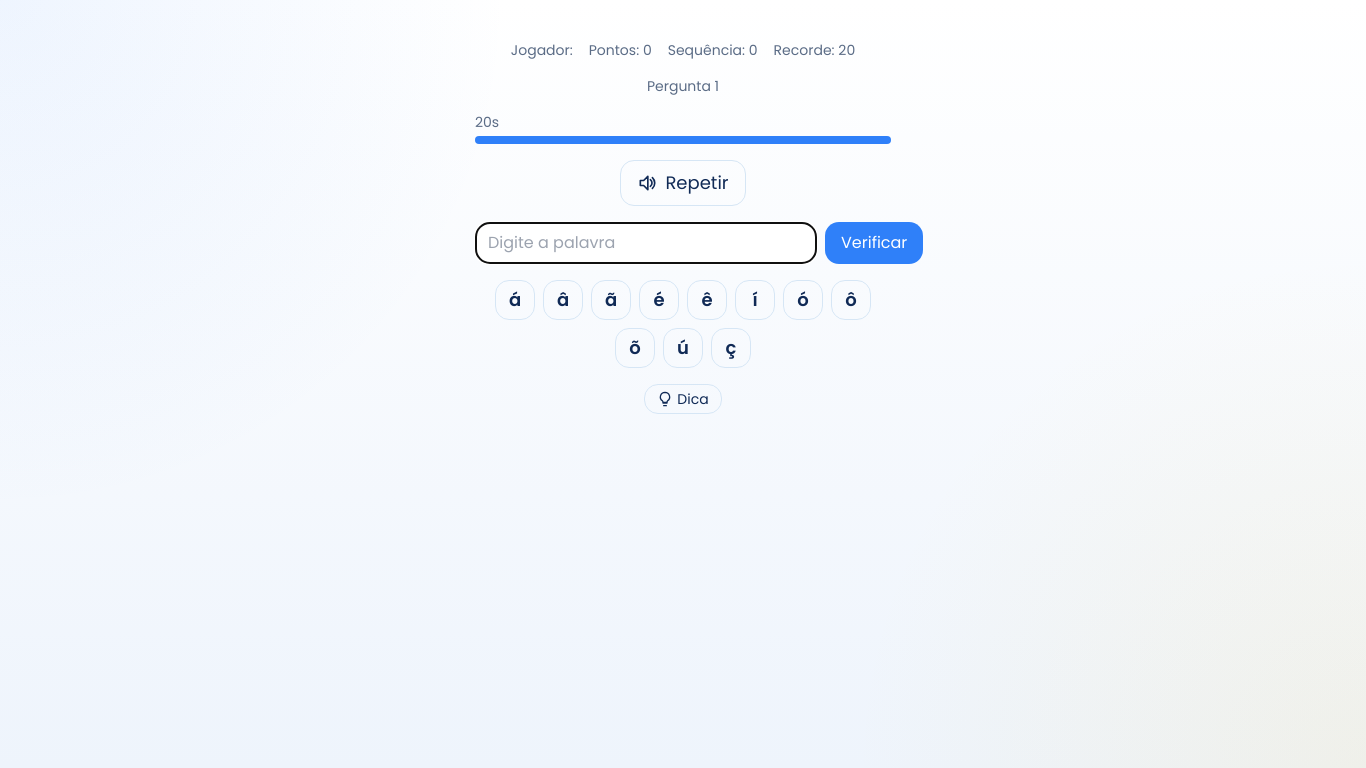
Teclas de acento › the keys are disabled after answering
In the field: (646, 243) [475, 222, 817, 264], type "acucar"
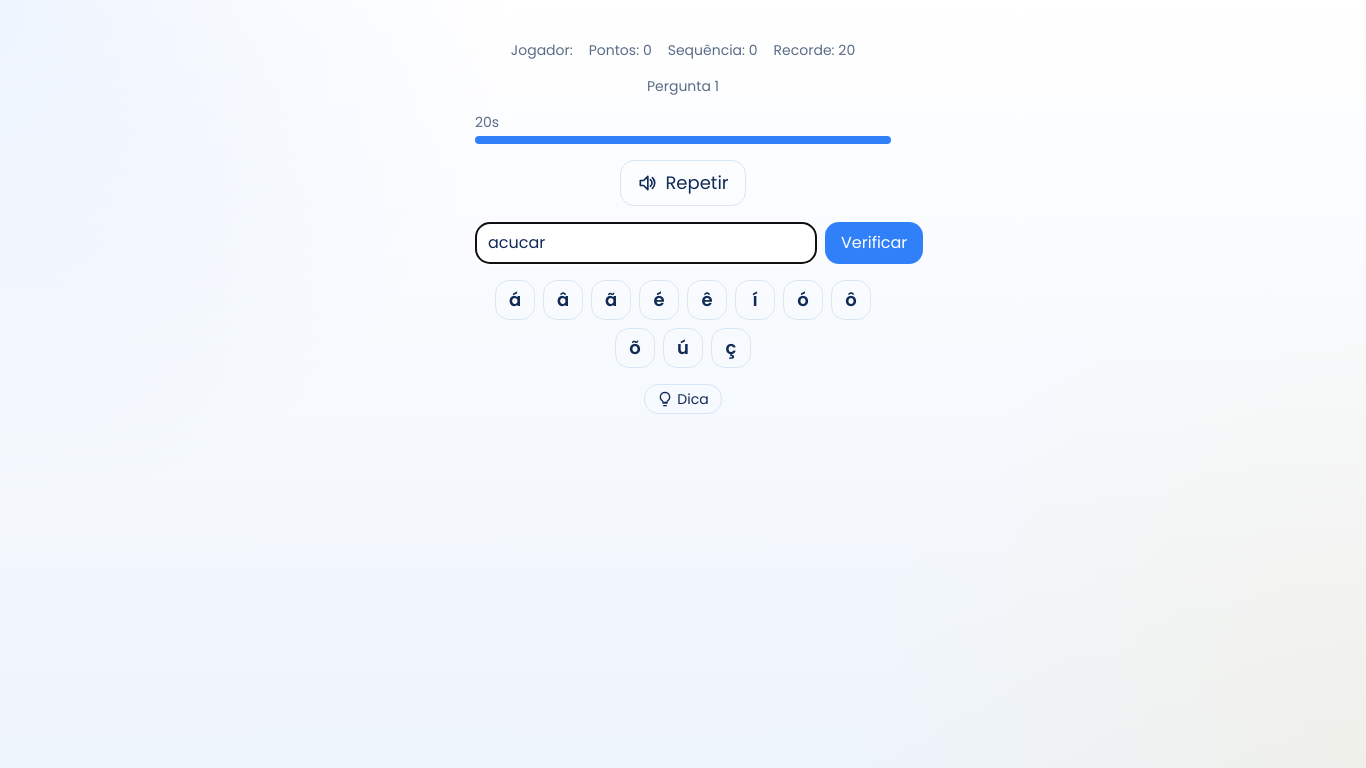
Click the button "Verificar": (874, 243) [825, 222, 923, 264]
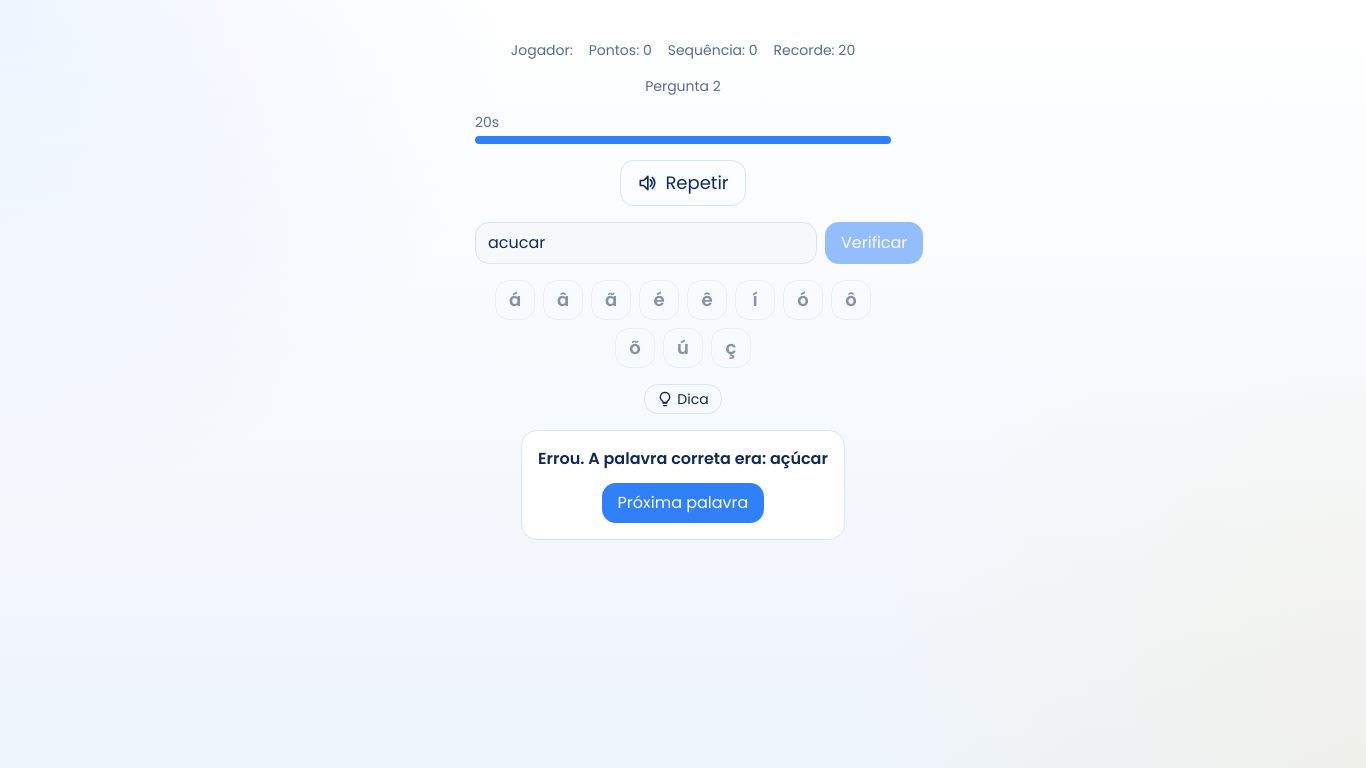
Result: the button "ç" is disabled at [711, 328, 751, 368]
